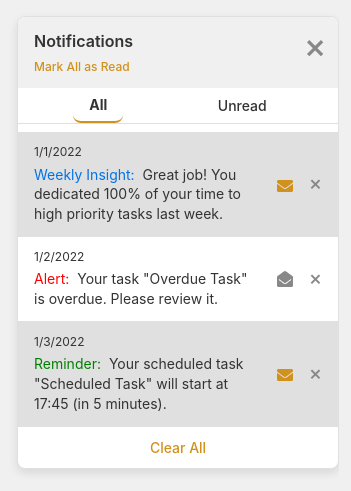
Test case: NotificationsDropdown Component - INTEGRATION TESTS › clicking the Unread tab filters notifications to show only unread items with correct text
This screenshot has width=351, height=491.
Click the button "Unread": x=242, y=106 top-left (202, 88), bottom-right (283, 123)
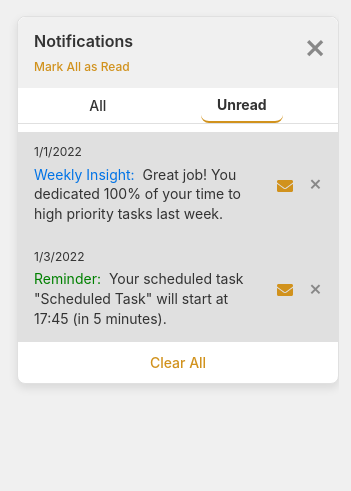
Expected: the list item that starts with "Weekly Insight:" shows "Weekly Insight: Great job! You dedicated 100% of your time to high priority tasks last week.", top-left (18, 132), bottom-right (338, 237)
Now the number of list items is 2, box top-left (18, 132), bottom-right (338, 237); top-left (18, 237), bottom-right (338, 341)
